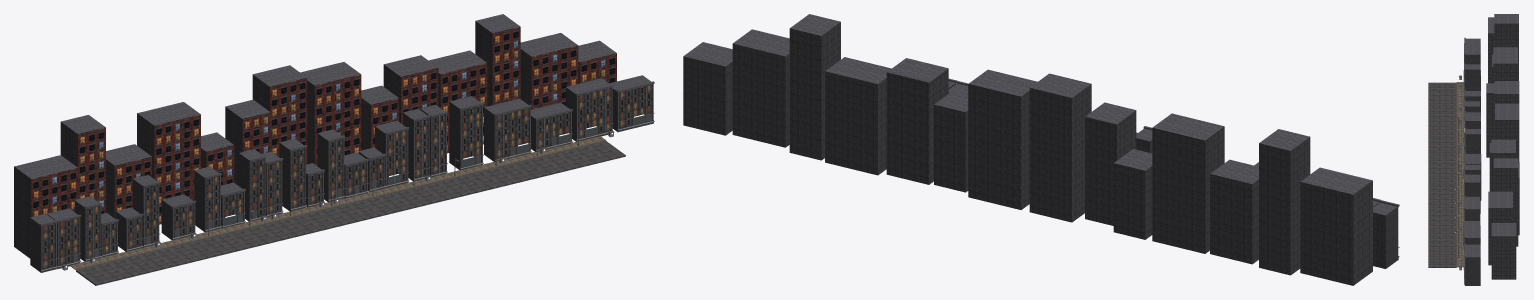
Rendered from stage3.glb.
3 renders of one model, left to right at view 1: azimuth 30°, elevation 25°; view 2: azimuth 150°, elevation 25°; view 3: azimuth 270°, elevation 25°, orthographic. The views are drawn at different scales.
Visible parts, largest first — view 1: Scenery; view 2: Scenery; view 3: Scenery.
Boxes of the visible parts, bbox=[...] form: Scenery: bbox=[14, 14, 654, 285]; Scenery: bbox=[683, 14, 1399, 285]; Scenery: bbox=[1428, 14, 1519, 285].
Size of the model in its own units: 164 by 28.4 by 29.73.
15 materials, 10 textured.
